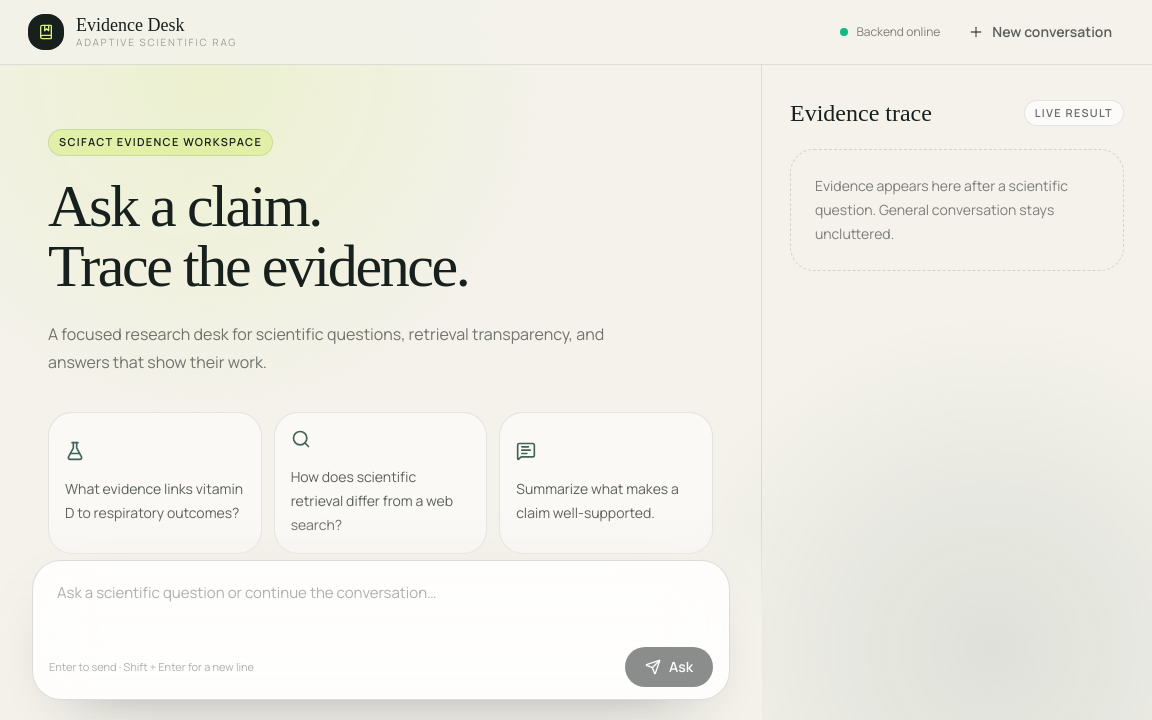
Test: research workspace › keeps general chat free of retrieval metadata
This screenshot has width=1152, height=720.
Step 1. Type "Hello" into the text box labelled "Ask a scientific question" → (381, 605), box [41,569,721,641]
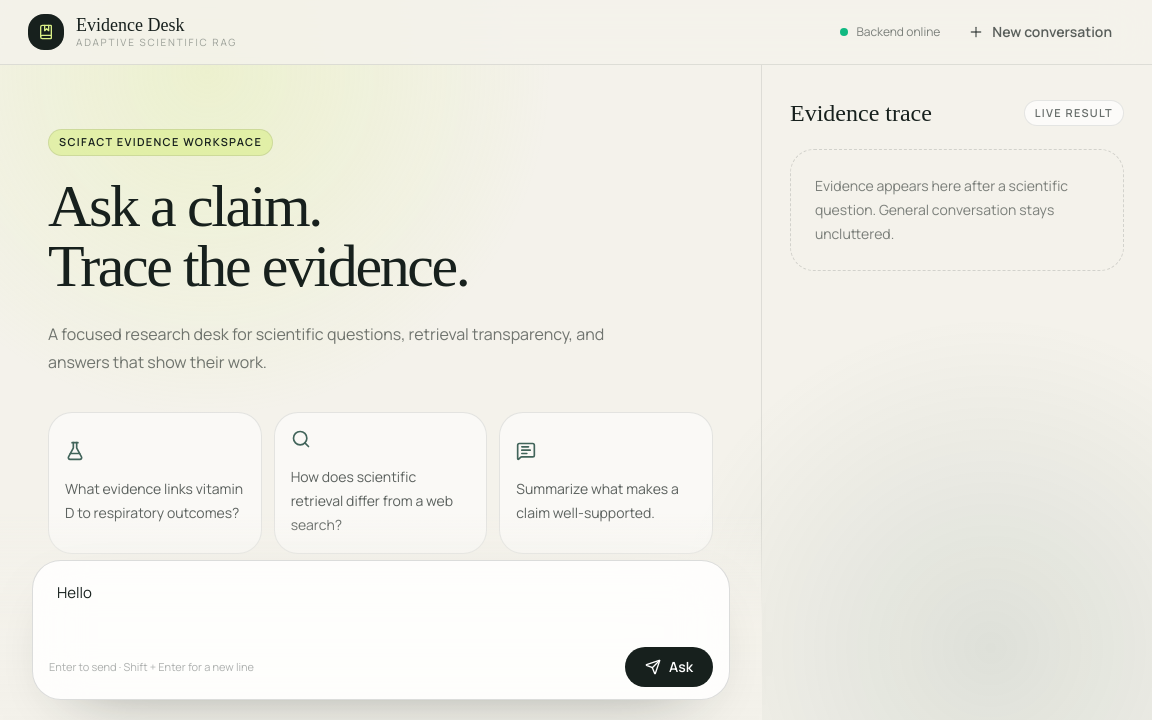
Step 2. Click the button "Ask" → (669, 667), box [625,647,713,687]
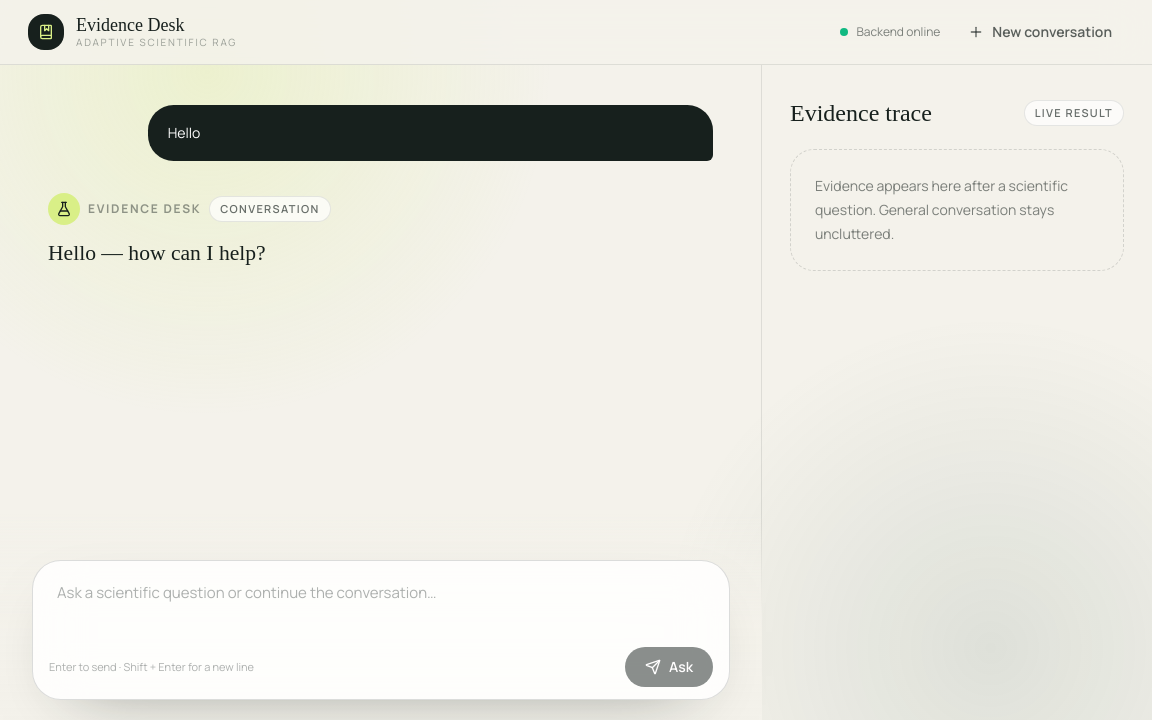
Expected: the text "Hello — how can I help?" is shown, [48,241,266,265]
Expected: the text "Conversation" is shown, [209,196,331,222]
